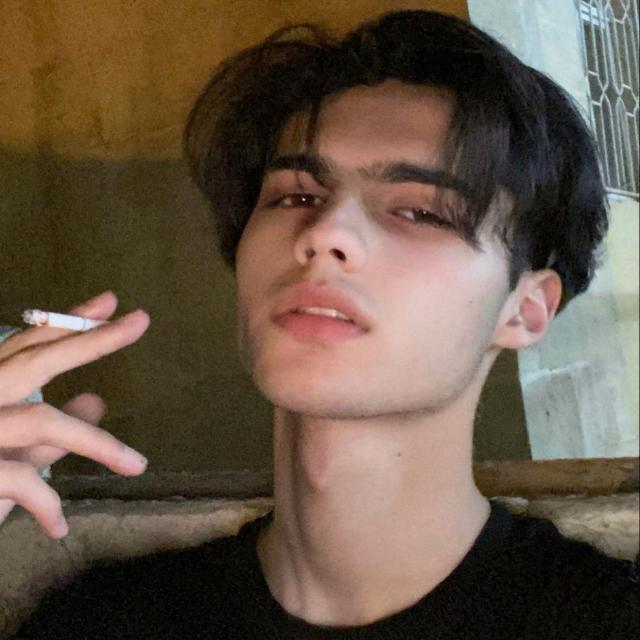cigarette: (13, 296, 135, 345)
